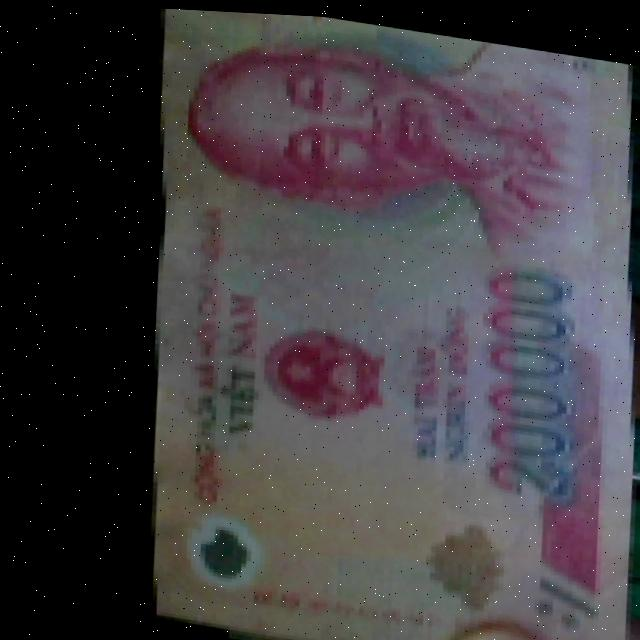200 000 VND: (95, 4, 640, 640)
